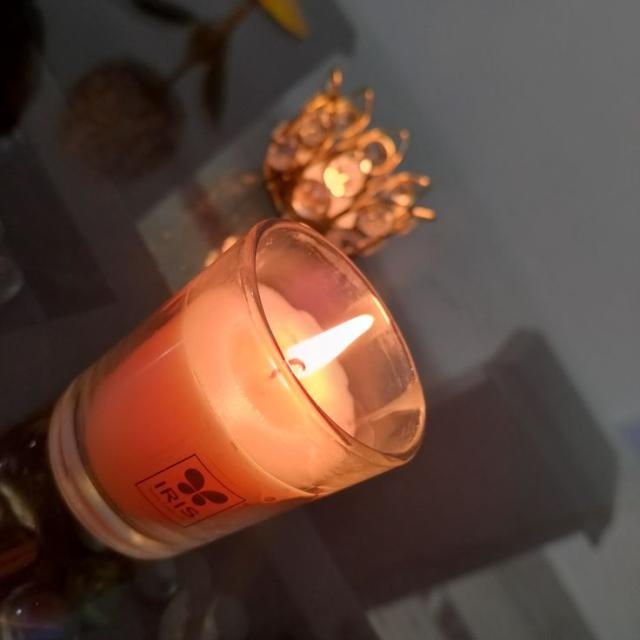fire: (284, 316, 374, 380)
